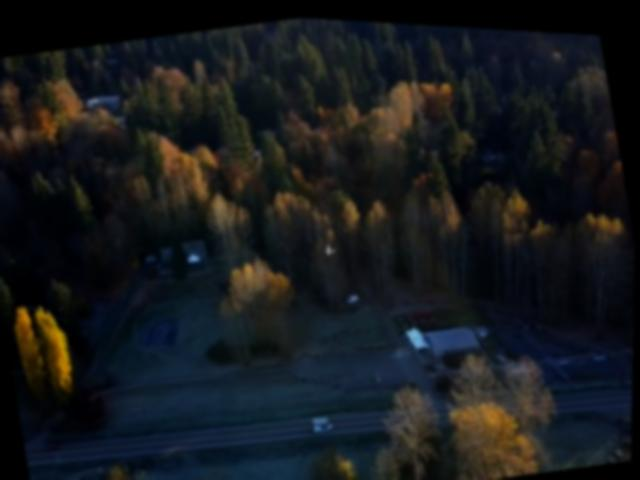uav: (313, 229, 344, 261)
